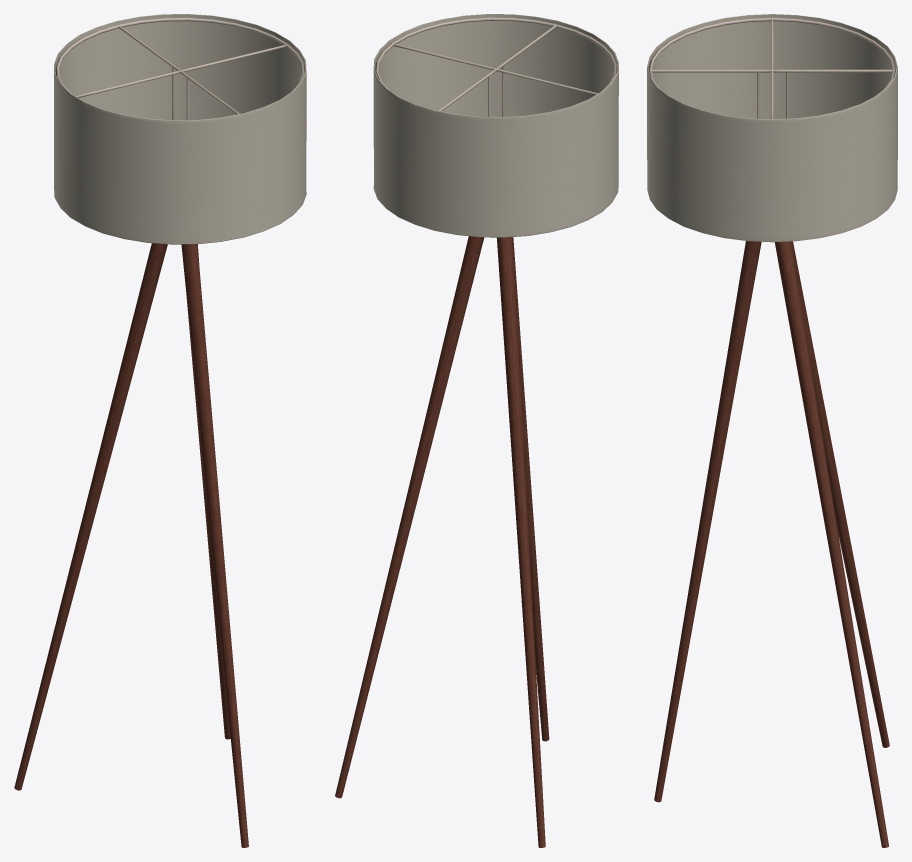
Rendered from abo-B0742F7GT8.glb.
3 views of the same model, side by side, from view 1: azimuth 30°, elevation 25°; view 2: azimuth 150°, elevation 25°; view 3: azimuth 270°, elevation 25° (orthographic). The views are drawn at different scales.
Bounding box in the file's own units: 0.483 × 1.55 × 0.483.
Materials: 1 (1 with a texture image).
